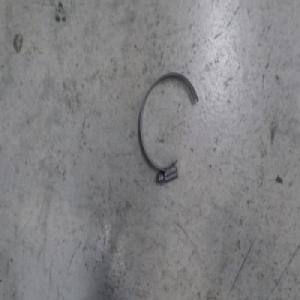AdjustableClamp: (138, 71, 199, 186)
